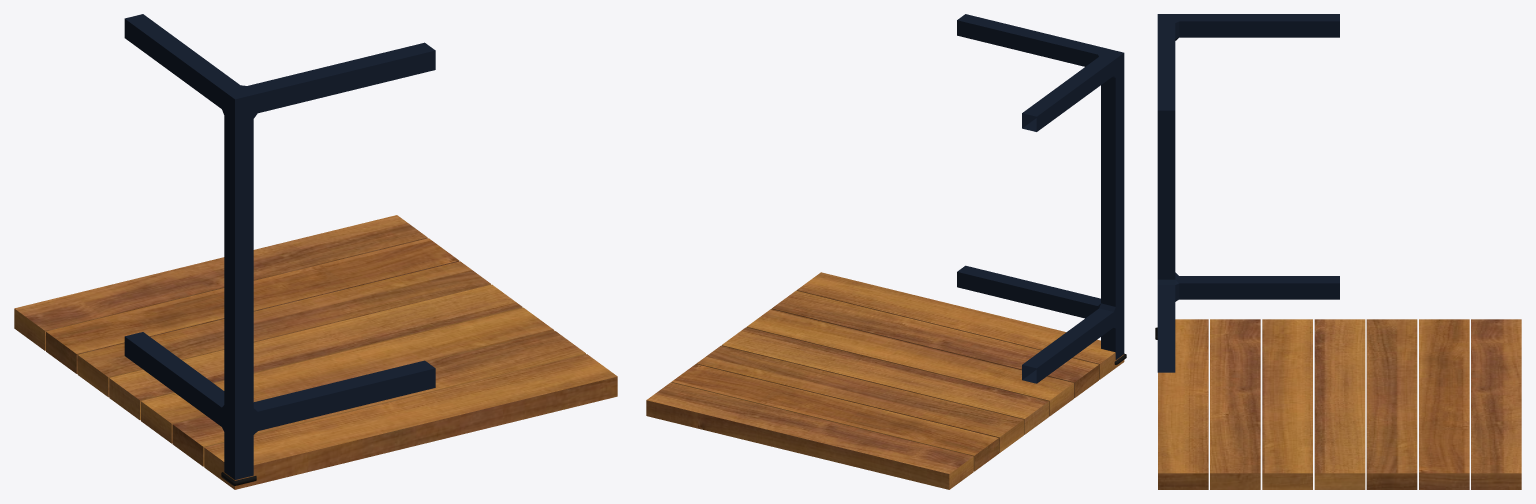
File: endtable-2.gltf
The picture shows the model from 3 angles, left to right: view 1: azimuth 30°, elevation 25°; view 2: azimuth 150°, elevation 25°; view 3: azimuth 270°, elevation 25°; orthographic projection. The views are drawn at different scales.
Visible parts, largest first — view 1: SM_Corner table wood, SM_Corner table metal; view 2: SM_Corner table wood, SM_Corner table metal; view 3: SM_Corner table wood, SM_Corner table metal.
Part boxes in pixels (x1,y1,x2,y2): SM_Corner table wood: (14, 215, 617, 489); SM_Corner table metal: (124, 14, 435, 485); SM_Corner table wood: (646, 272, 1124, 489); SM_Corner table metal: (957, 14, 1126, 383); SM_Corner table wood: (1158, 319, 1521, 489); SM_Corner table metal: (1155, 14, 1339, 372).
Bounding box in the file's own units: 0.4027 × 0.39 × 0.4024.
Materials: 3 (1 with a texture image).
